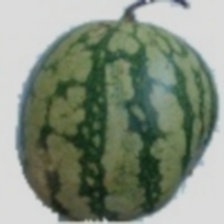watermelon: (51, 49, 203, 200)
